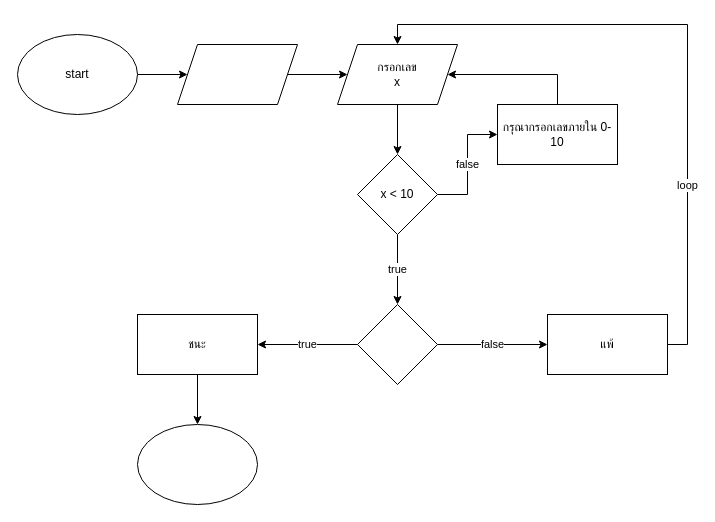
Some shapes in this 715 by 522 pixel diagram are drawn without their labels. The box of each missing label's shape, as (x1, y1, x2, y2) in pixels:
end: (136, 424, 258, 504)
x = WIN: (356, 304, 438, 384)
เลขที่จะชนะ WIN = 3: (176, 44, 298, 104)
